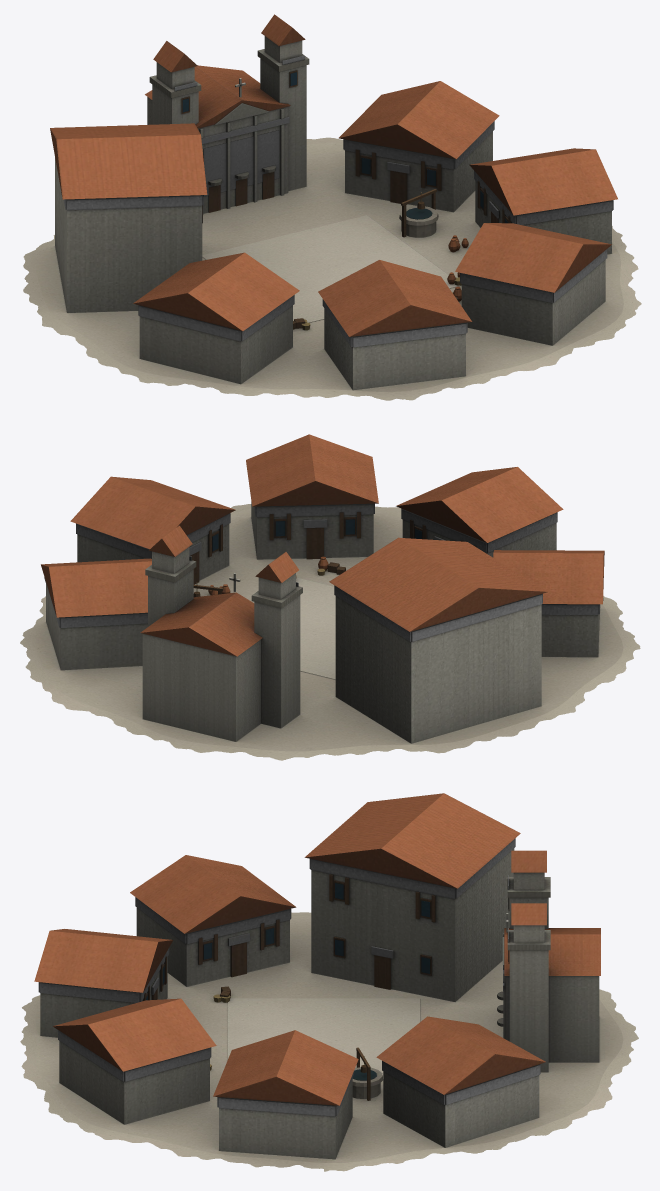
The model's file is gunpowder-town-small-a-americas.glb.
The picture shows the model from 3 angles, top to bottom: view 1: azimuth 30°, elevation 25°; view 2: azimuth 150°, elevation 25°; view 3: azimuth 270°, elevation 25°; orthographic projection.
Parts seen in each view (by area): view 1: LOD0; view 2: LOD0; view 3: LOD0.
Boxes of the visible parts, x1,y1,x2,y2 form: LOD0: (23,14,641,400); LOD0: (20,434,640,760); LOD0: (20,793,638,1171).
Size of what is drawn, in the model's own units: 3.95 by 1.15 by 3.95.
Materials: 3 (3 with a texture image).
